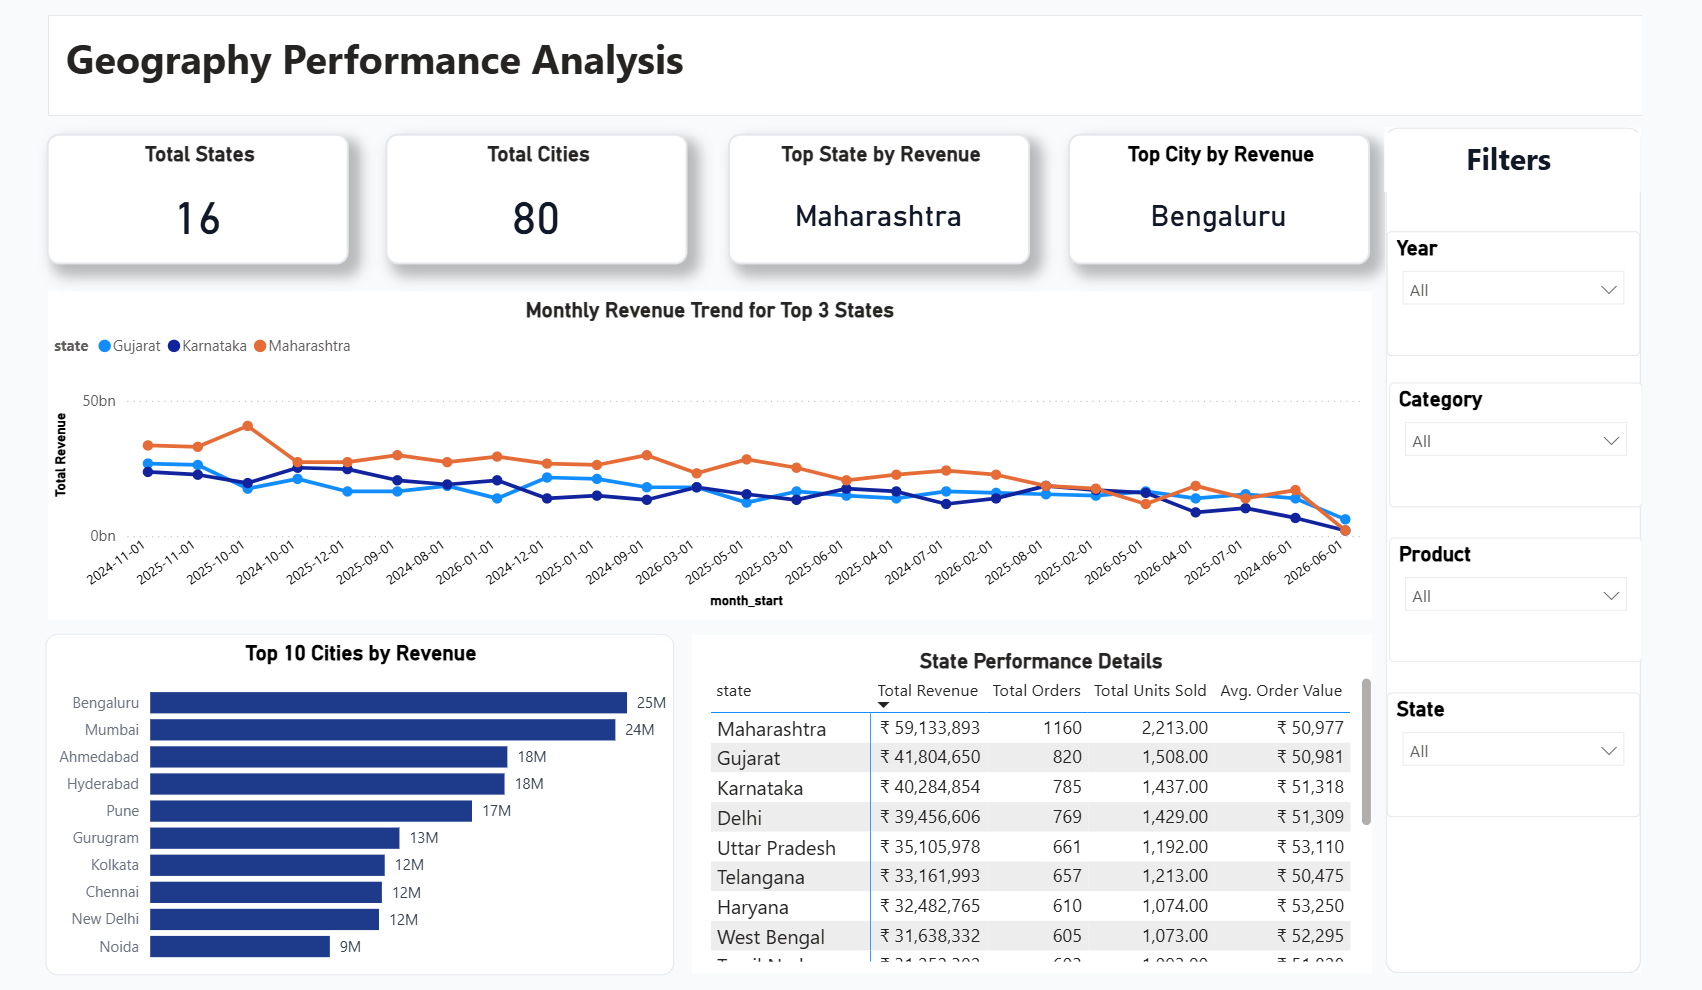

What the dashboard file says about the page in this screenshot:
{"tool":"powerbi","page":{"name":"Geography  analysis","canvas":[1300,800],"ordinal":2},"visuals":[{"type":"textbox","box":[12.1,12.1,1315.6,81.6],"z":0},{"type":"shape","box":[1092.9,103,206.5,683.5],"z":0,"group":"g2"},{"type":"group","id":"g1","title":"Group 1","box":[11.4,108.6,1070,105.7],"z":1000},{"type":"card","title":"Total States","fields":{"Values":["CountNonNull(vw_state_performance.state)"]},"box":[11.4,108.6,244.3,105.7],"z":1000,"group":"g1"},{"type":"card","title":"Total Cities","fields":{"Values":["CountNonNull(vw_city_performance.city)"]},"box":[285,108.6,244.3,105.7],"z":2000,"group":"g1"},{"type":"clusteredBarChart","title":"Top 10 Cities by Revenue","fields":{"Category":["vw_city_performance.city"],"Y":["Sum(vw_city_performance.total_revenue)"]},"box":[10,512.6,508.3,276.2],"z":2000},{"type":"card","title":"Top State by Revenue","fields":{"Values":["Min(vw_state_performance.state)"]},"box":[561.9,108.6,244.3,105.7],"z":3000,"group":"g1"},{"type":"pivotTable","title":"State Performance Details","fields":{"Rows":["vw_state_performance.state"],"Values":["Sum(vw_state_performance.total_revenue)","Sum(vw_state_performance.total_orders)","Sum(vw_state_performance.total_units_sold)","Sum(vw_state_performance.average_order_value)"]},"box":[532.2,513,549.7,274],"z":3000},{"type":"group","id":"g2","title":"Group 2","box":[1091.7,103,209.1,683.5],"z":4000},{"type":"card","title":"Top City by Revenue","fields":{"Values":["Min(vw_city_performance.city)"]},"box":[837.1,108.6,244.3,105.7],"z":4000,"group":"g1"},{"type":"textbox","box":[1091.7,107.2,207.3,48.4],"z":5000,"group":"g2"},{"type":"lineChart","title":"Monthly Revenue Trend for Top 3 States","fields":{"Category":["vw_sales_enriched.month_start"],"Y":["Sum(vw_sales_enriched.Total Revenue)"],"Series":["vw_sales_enriched.state"]},"box":[12.2,235.6,1069.7,265.2],"z":5000},{"type":"slicer","title":"Year","fields":{"Values":["vw_monthly_sales.sale_year"]},"box":[1094,186.4,205.2,100.6],"z":6000,"group":"g2"},{"type":"slicer","title":"State ","fields":{"Values":["vw_sales_enriched.state"]},"box":[1094,559.8,205.2,100.6],"z":7000,"group":"g2"},{"type":"slicer","title":"Category","fields":{"Values":["vw_sales_enriched.category"]},"box":[1095.6,309.1,205.2,100.6],"z":8000,"group":"g2"},{"type":"slicer","title":"Product ","fields":{"Values":["vw_sales_enriched.product_name"]},"box":[1095.6,434.4,205.2,100.6],"z":9000,"group":"g2"}]}

Visuals, with their boxes on the page's 1300x800 design canvas (x1, y1, x2, y2). These are canvas units, not pixel positions in the 1702x990 screenshot, which may show the page scaled, cropped or inside an application window:
textbox: 12,12,1328,94
shape: 1093,103,1299,786
"Group 1" group: 11,109,1081,214
"Total States" card: 11,109,256,214
"Total Cities" card: 285,109,529,214
"Top 10 Cities by Revenue" clusteredBarChart: 10,513,518,789
"Top State by Revenue" card: 562,109,806,214
"State Performance Details" pivotTable: 532,513,1082,787
"Group 2" group: 1092,103,1301,786
"Top City by Revenue" card: 837,109,1081,214
textbox: 1092,107,1299,156
"Monthly Revenue Trend for Top 3 States" lineChart: 12,236,1082,501
"Year" slicer: 1094,186,1299,287
"State " slicer: 1094,560,1299,660
"Category" slicer: 1096,309,1301,410
"Product " slicer: 1096,434,1301,535
